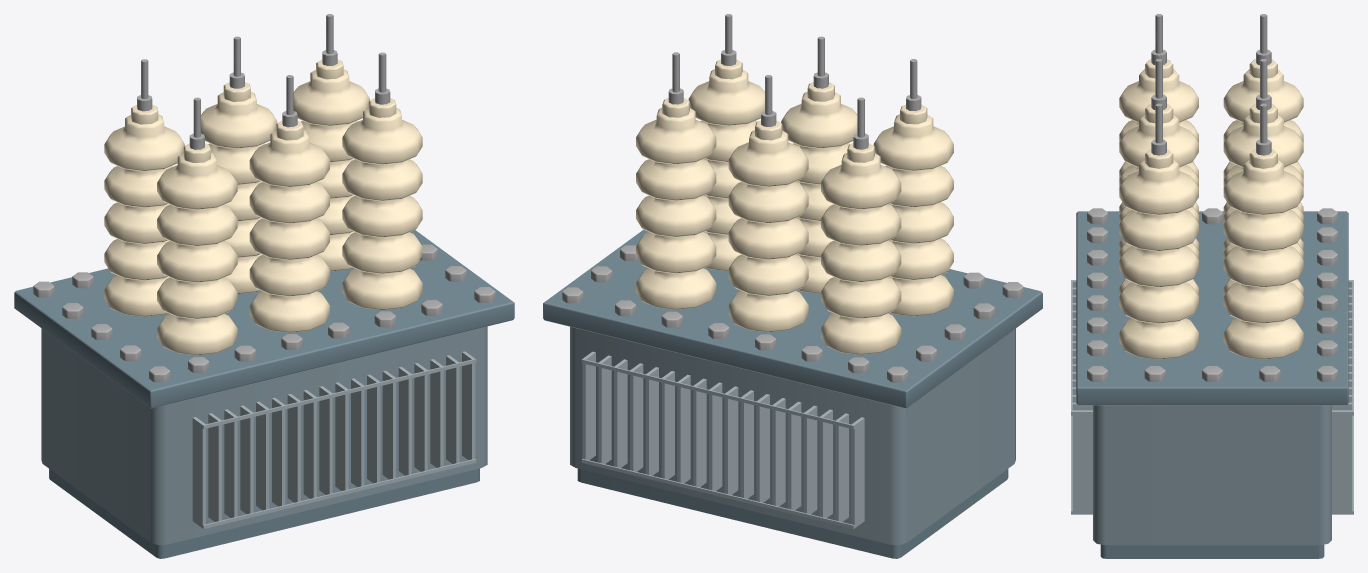
File: transformator_001.fbx
3 renders of one model, left to right at view 1: azimuth 30°, elevation 25°; view 2: azimuth 150°, elevation 25°; view 3: azimuth 270°, elevation 25°, orthographic.
Parts seen in each view (by area): view 1: transformator_001; view 2: transformator_001; view 3: transformator_001.
Part boxes in pixels (x1=…): transformator_001: x1=14, y1=14, x2=514, y2=558; transformator_001: x1=543, y1=14, x2=1042, y2=558; transformator_001: x1=1071, y1=14, x2=1353, y2=558.
Bounding box in the file's own units: 577 × 389 × 638.
